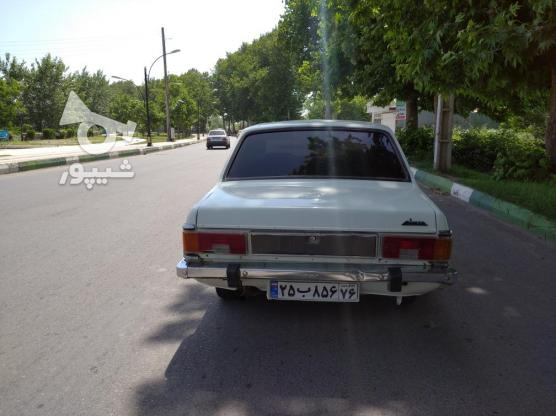car: (268, 281, 360, 302)
